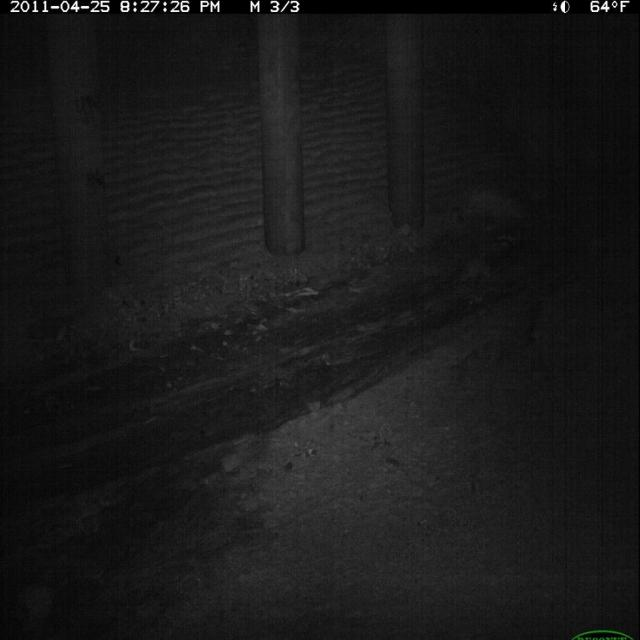opossum: (450, 245, 501, 296)
